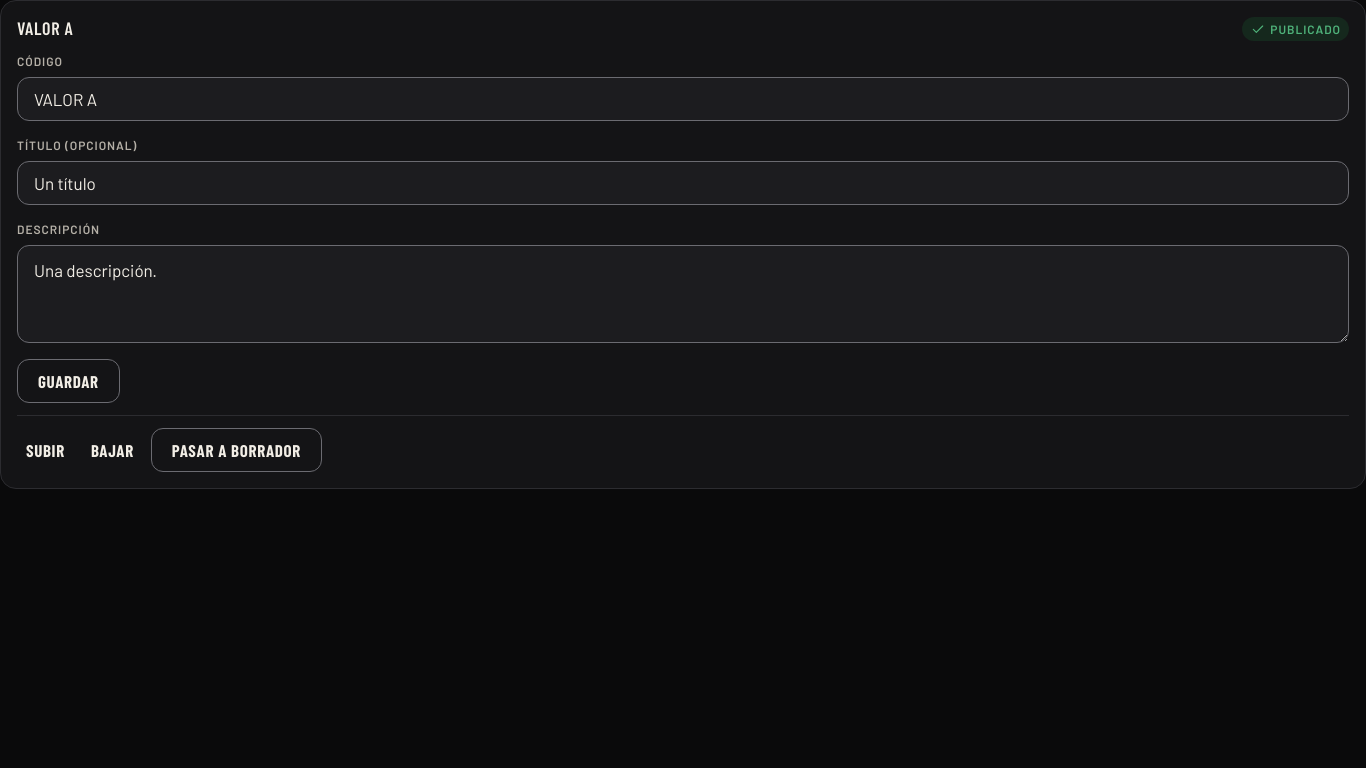
Test: ValueEditor · un valor que existe › guarda lo escrito con el id del valor
Replace the text in the field labelled "Código" with "VALOR B" at (683, 99), box [17, 77, 1349, 121]
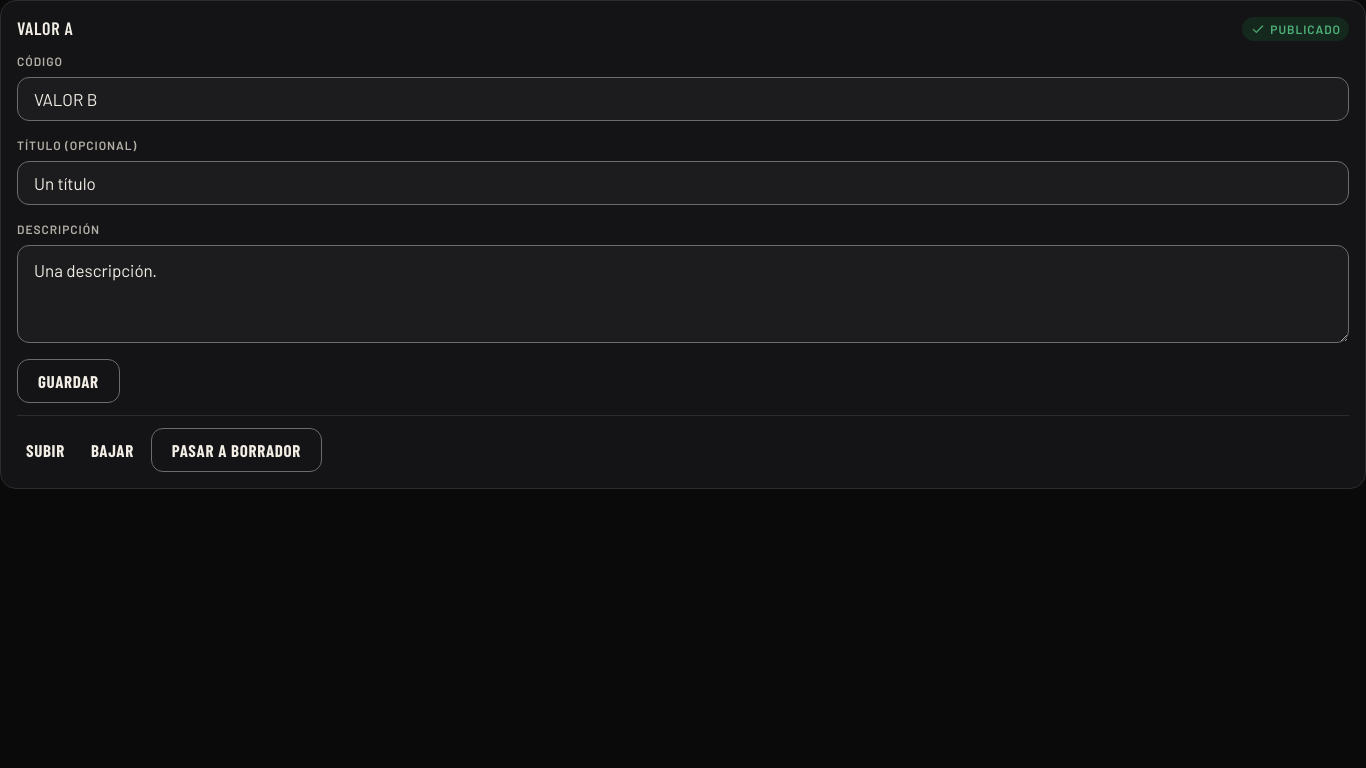
Replace the text in the field labelled "Título (opcional)" with "Otro título" at (683, 183), box [17, 161, 1349, 205]
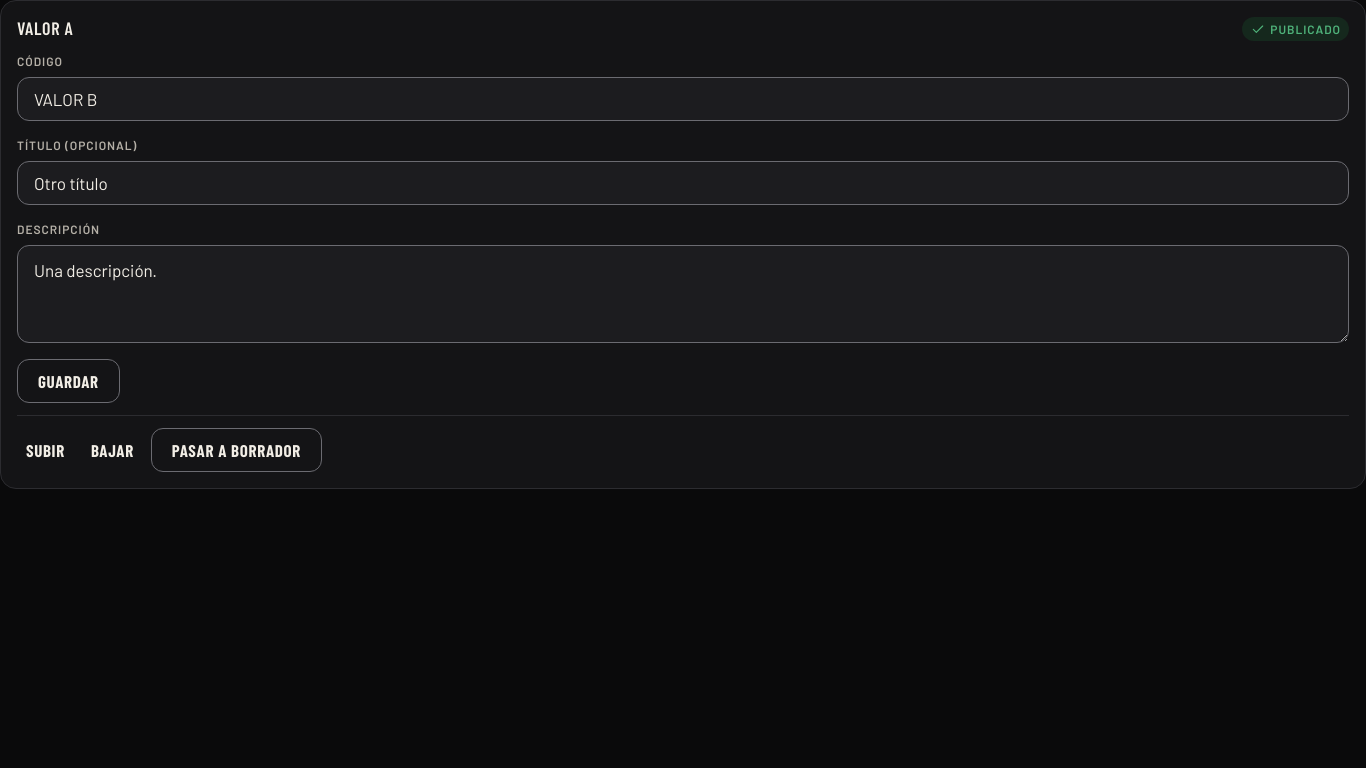
Replace the text in the text box labelled "Descripción" with "Otra descripción." at (683, 294), box [17, 245, 1349, 343]
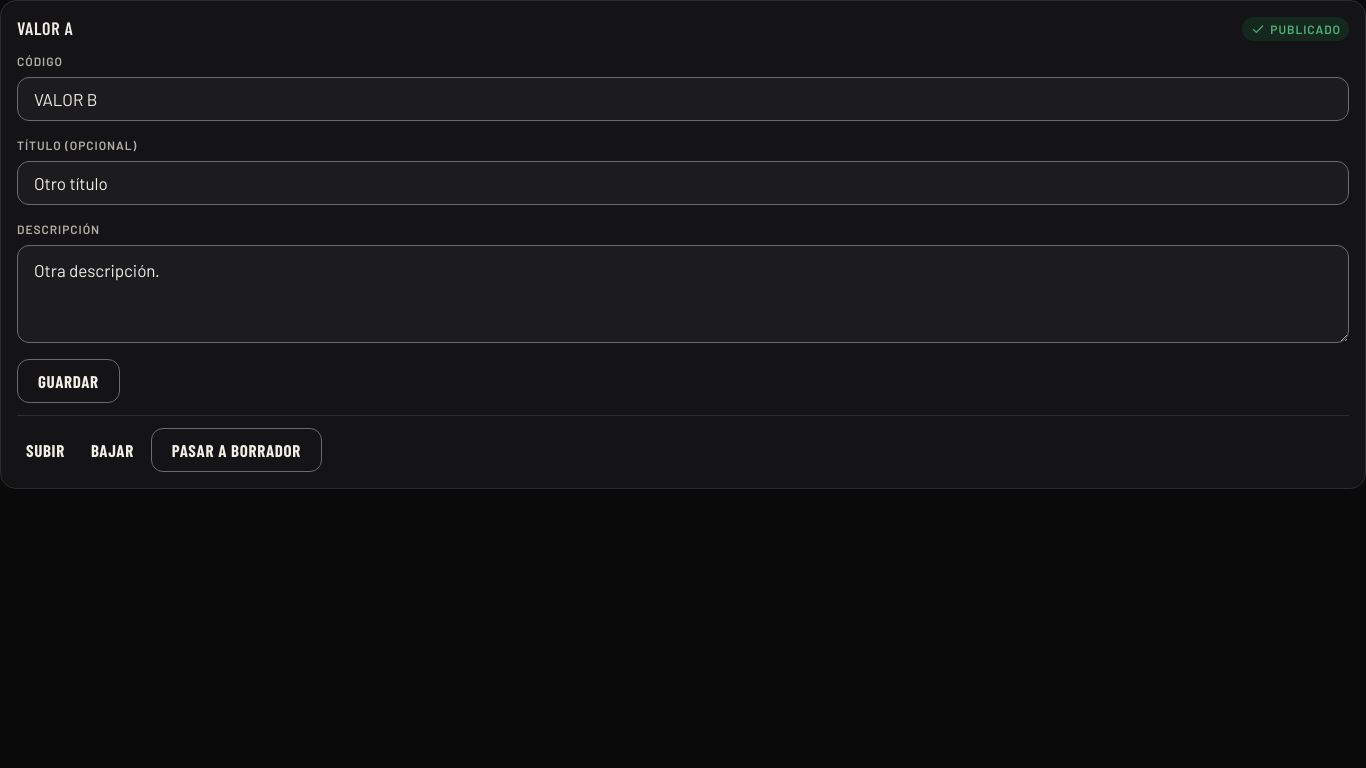
Click the button "Guardar" at (68, 381), box [17, 359, 120, 403]
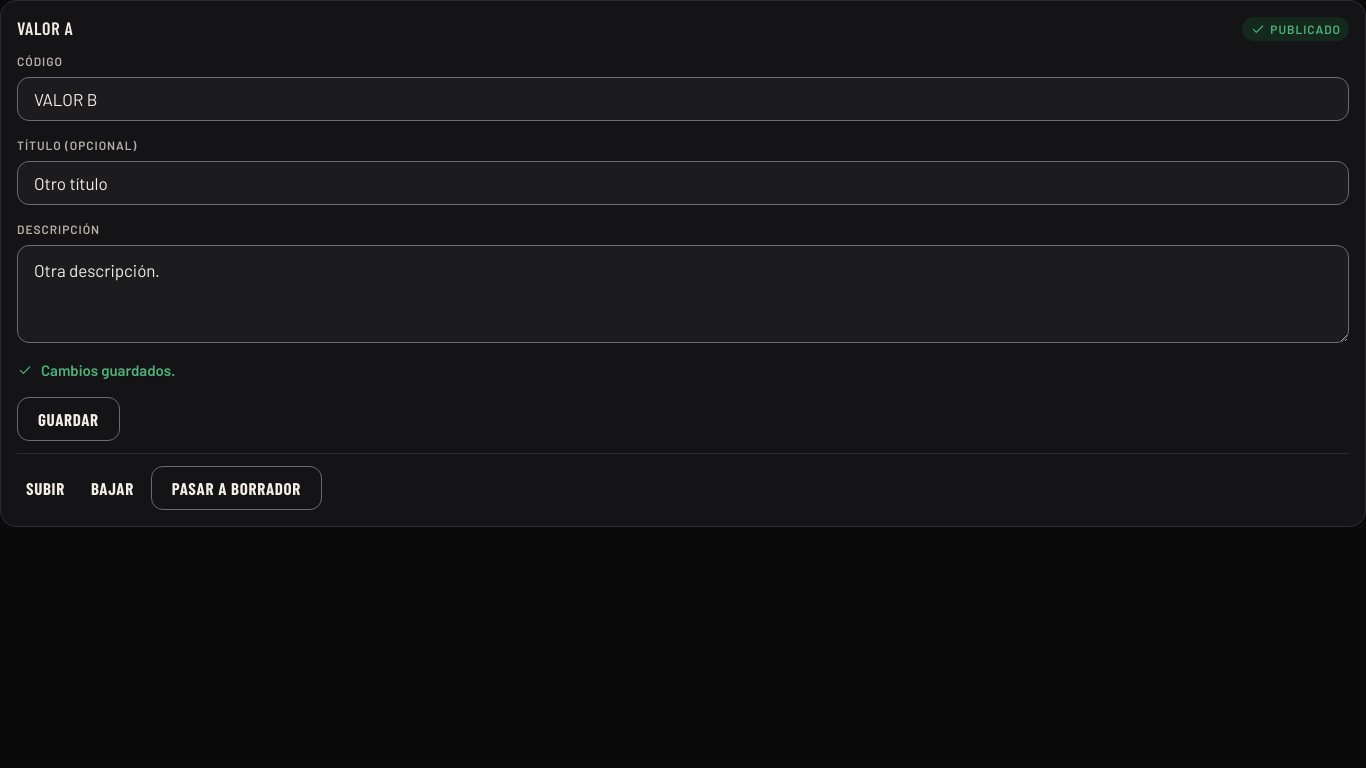
expect the text "Cambios guardados." is shown: met, box [17, 361, 175, 379]
